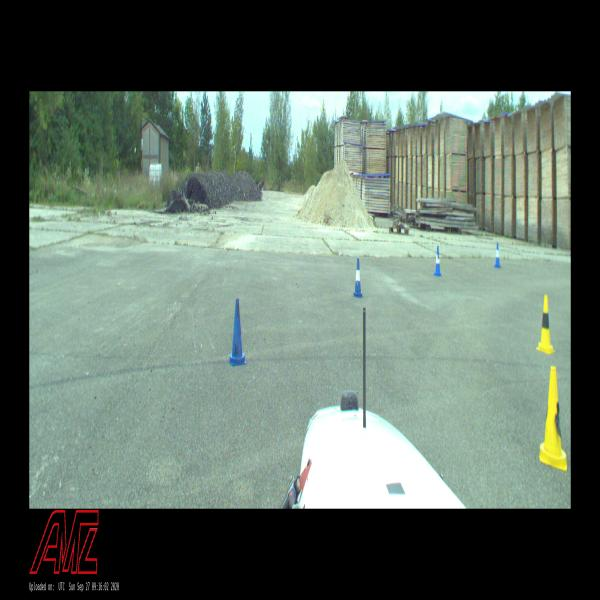blue_cone: (229, 299, 246, 364), (354, 259, 362, 296), (434, 247, 441, 275), (494, 242, 500, 266)
yellow_cone: (540, 366, 566, 472), (537, 296, 554, 354)
